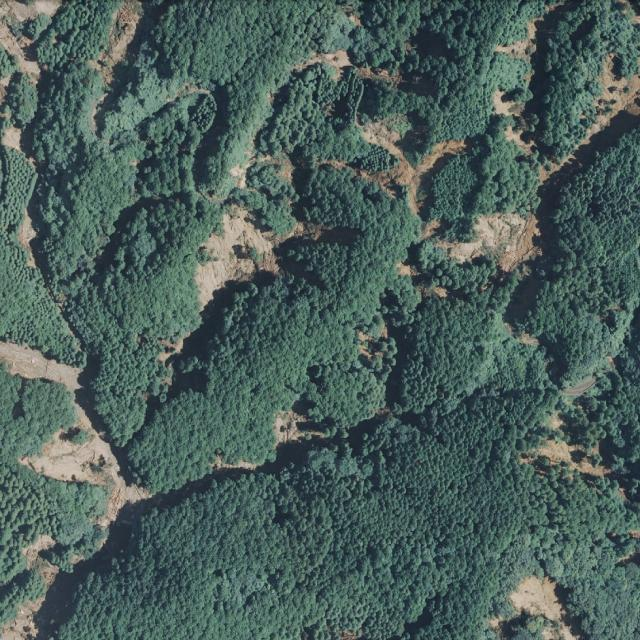landslide: (420, 1, 640, 348), (0, 319, 156, 530), (161, 198, 336, 365), (520, 350, 640, 510), (0, 0, 63, 279), (350, 111, 476, 215), (88, 0, 150, 132), (0, 530, 71, 640), (488, 569, 584, 640), (274, 404, 345, 474), (396, 249, 467, 301), (230, 137, 301, 188), (577, 576, 640, 621), (291, 44, 356, 78), (356, 66, 426, 93)
